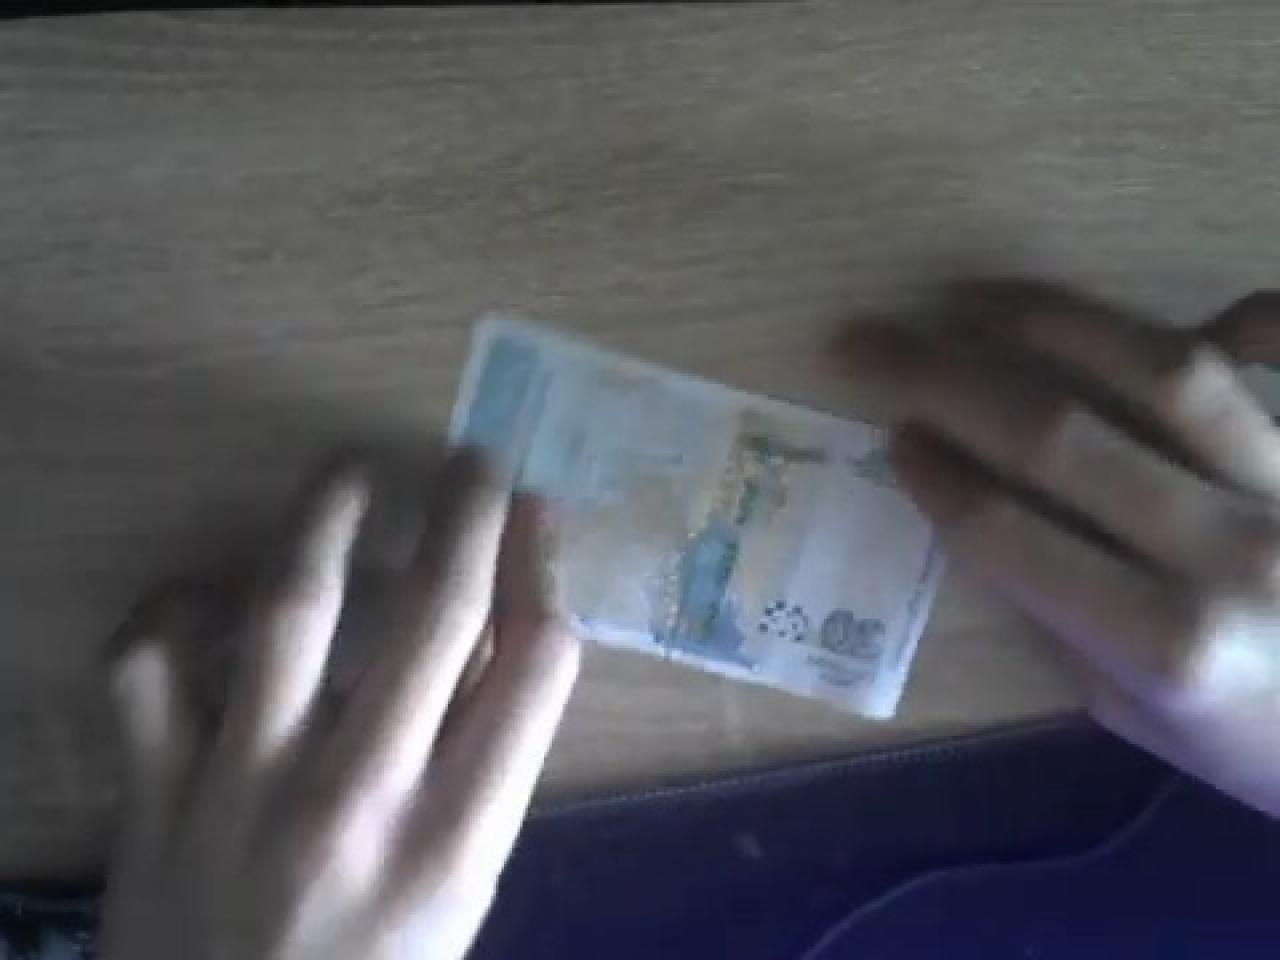20leva: (451, 312, 946, 720)
